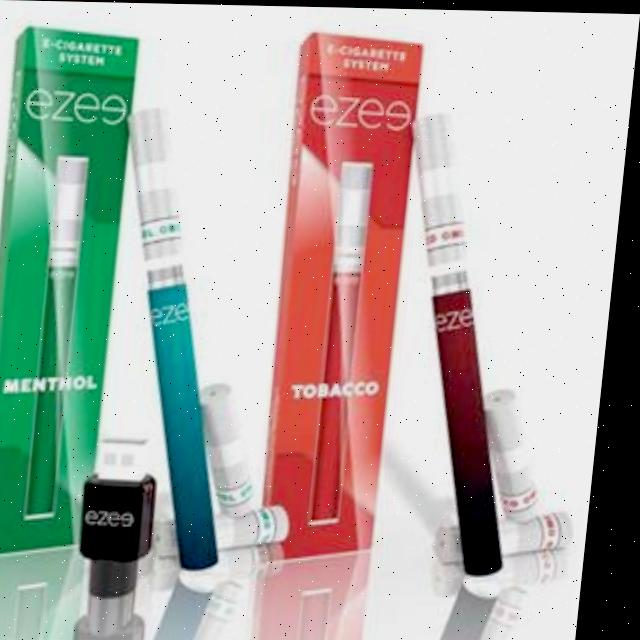vape: (413, 113, 517, 575), (129, 107, 230, 571), (314, 158, 382, 527), (31, 154, 98, 521)
